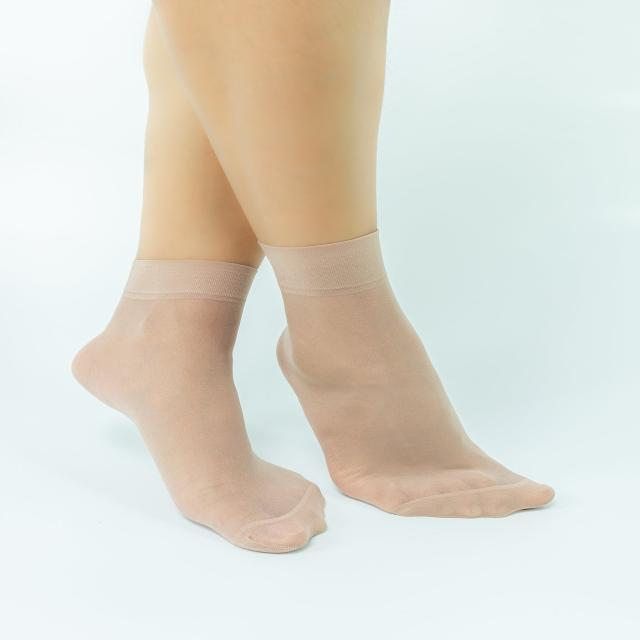sock: (257, 228, 555, 519), (70, 258, 327, 554)
